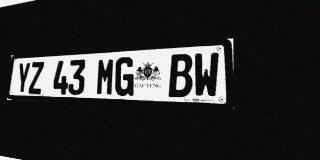3: (68, 59, 86, 95)
4: (52, 60, 70, 95)
B: (168, 53, 193, 97)
G: (114, 57, 135, 96)
M: (96, 58, 115, 96)
W: (193, 52, 219, 98)
Y: (16, 62, 31, 94)
Z: (28, 62, 44, 94)
